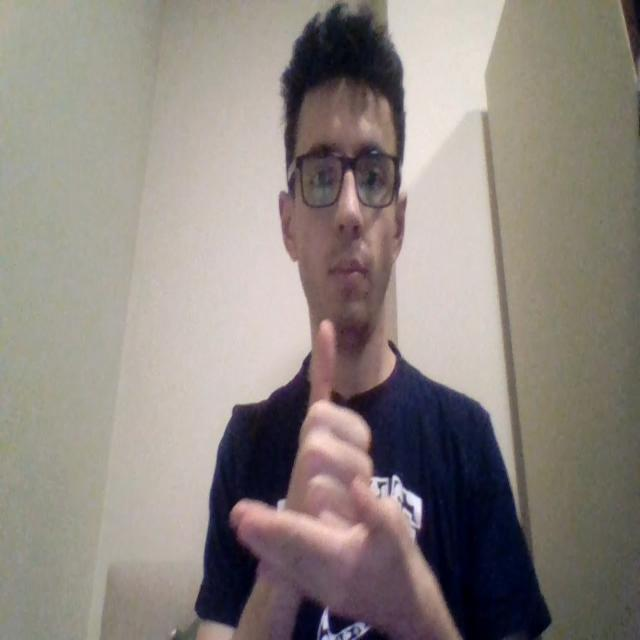help: (228, 319, 418, 618)
